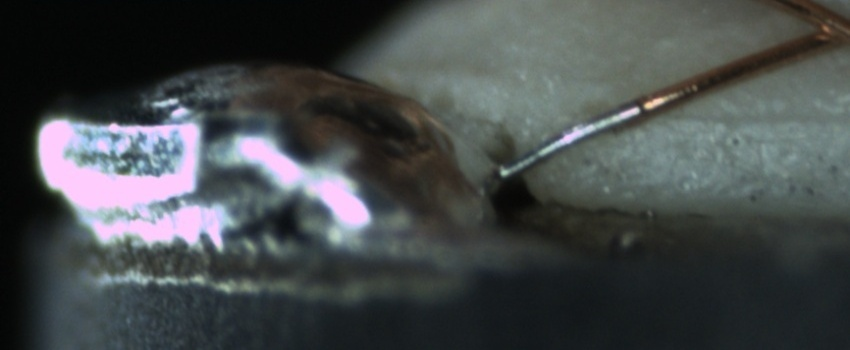CL: (777, 4, 849, 58)
DL: (639, 88, 849, 147)
TS: (500, 103, 637, 178)
